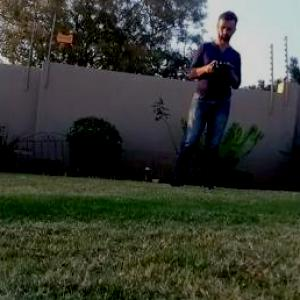follow: (162, 0, 244, 194)
